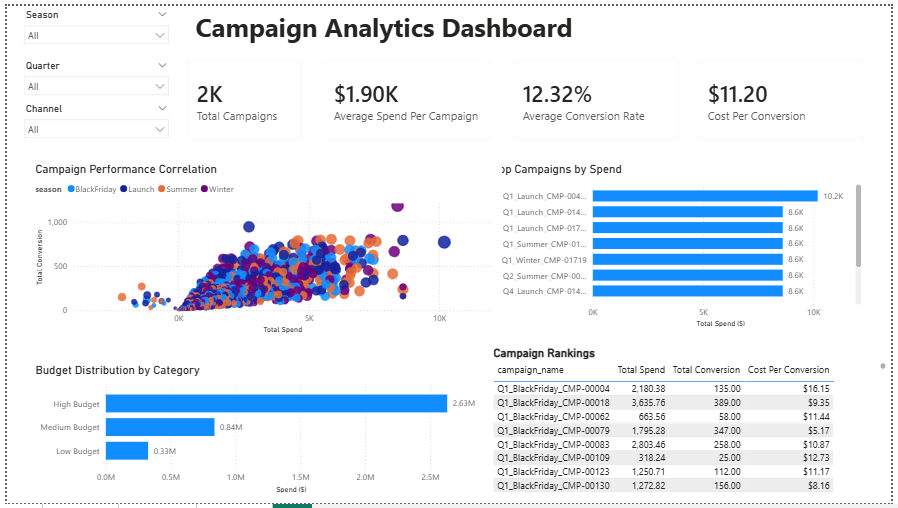

Layout of this report page (visuals, bound fields, positions):
{"tool":"powerbi","page":{"name":"Page 3","canvas":[1280,720],"ordinal":2},"visuals":[{"type":"textbox","box":[268.3,0,925.4,60.3],"z":0},{"type":"cardVisual","fields":{"Data":["key measures.Total Campaigns"]},"box":[244.8,60.3,198.3,150],"z":1000},{"type":"cardVisual","fields":{"Data":["key measures.Average Spend Per Campaign"]},"box":[443.1,60.3,274.1,150],"z":2000},{"type":"cardVisual","fields":{"Data":["key measures.Average Conversion Rate"]},"box":[717.2,60.3,274.1,150],"z":3000},{"type":"cardVisual","fields":{"Data":["key measures.Cost Per Conversion"]},"box":[986.2,60.3,274.1,150],"z":4000},{"type":"clusteredBarChart","title":"Top Campaigns by Spend","fields":{"Category":["public dim_campaign.campaign_name"],"Y":["key measures.Total Spend"]},"box":[700,225.4,542.9,244.4],"z":5000},{"type":"scatterChart","title":"Campaign Performance Correlation","fields":{"Category":["public dim_campaign.campaign_name"],"X":["key measures.Total Spend"],"Y":["key measures.Total Conversion"],"Size":["key measures.Total Clicks"],"Series":["public dim_campaign.season"]},"box":[36.5,225.7,681.1,254.1],"z":6000},{"type":"clusteredBarChart","title":"Budget Distribution by Category","fields":{"Category":["public budget_segments.budget_category"],"Y":["Sum(public budget_segments.spend)"]},"box":[36.5,517.6,663.5,193.2],"z":7000},{"type":"tableEx","title":"Campaign Rankings ","fields":{"Values":["public dim_campaign.campaign_name","key measures.Total Spend","key measures.Total Conversion","key measures.Cost Per Conversion"]},"box":[700,492.3,579.5,219.2],"z":8000},{"type":"slicer","fields":{"Values":["public dim_date.quarter"]},"box":[14.3,74.6,230.2,60.3],"z":9000},{"type":"slicer","fields":{"Values":["public dim_channel.channel"]},"box":[14.3,136.5,230.2,74.6],"z":10000},{"type":"slicer","fields":{"Values":["public dim_campaign.season"]},"box":[14.3,0,230.2,74.6],"z":11000}]}

Visuals, with their boxes in screenshot pixels (x1, y1, x2, y2), scaled from the page's 1280x720 canvas onto the 898x508 screenshot:
textbox: [x1=188, y1=0, x2=837, y2=43]
cardVisual - key measures.Total Campaigns: [x1=172, y1=43, x2=311, y2=148]
cardVisual - key measures.Average Spend Per Campaign: [x1=311, y1=43, x2=503, y2=148]
cardVisual - key measures.Average Conversion Rate: [x1=503, y1=43, x2=695, y2=148]
cardVisual - key measures.Cost Per Conversion: [x1=692, y1=43, x2=884, y2=148]
"Top Campaigns by Spend" clusteredBarChart: [x1=491, y1=159, x2=872, y2=331]
"Campaign Performance Correlation" scatterChart: [x1=26, y1=159, x2=503, y2=339]
"Budget Distribution by Category" clusteredBarChart: [x1=26, y1=365, x2=491, y2=502]
"Campaign Rankings " tableEx: [x1=491, y1=347, x2=897, y2=502]
slicer - public dim_date.quarter: [x1=10, y1=53, x2=172, y2=95]
slicer - public dim_channel.channel: [x1=10, y1=96, x2=172, y2=149]
slicer - public dim_campaign.season: [x1=10, y1=0, x2=172, y2=53]
